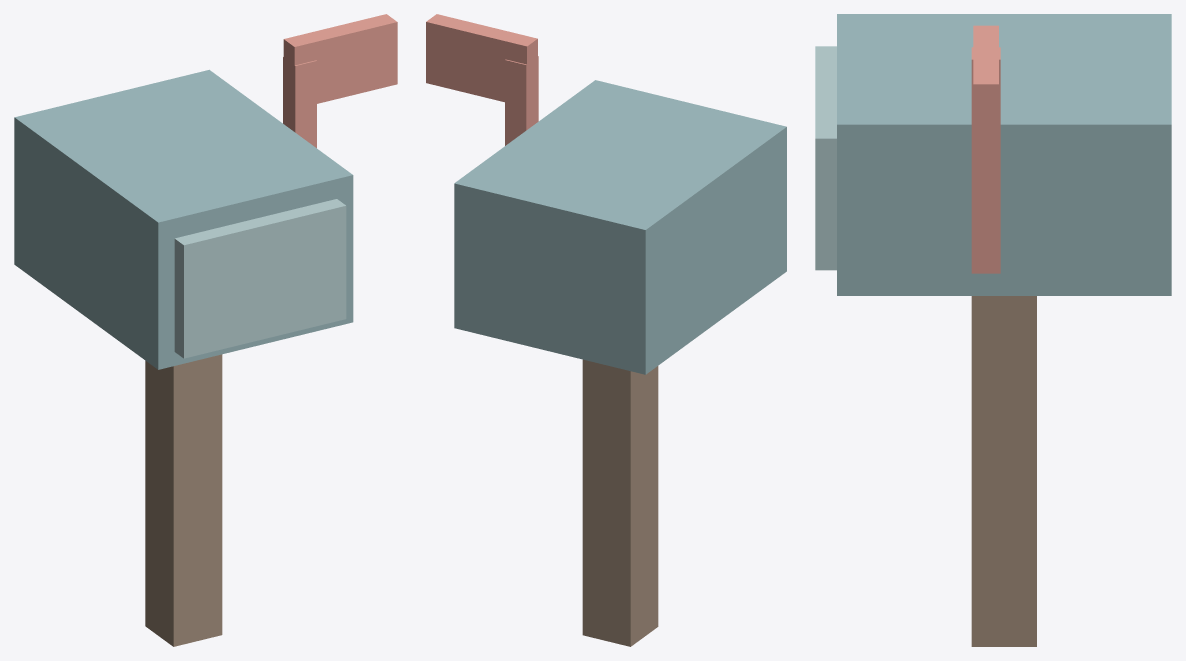
The model's file is mailbox.glb.
3 views of the same model, side by side, from view 1: azimuth 30°, elevation 25°; view 2: azimuth 150°, elevation 25°; view 3: azimuth 270°, elevation 25° (orthographic). The views are drawn at different scales.
Parts seen in each view (by area): view 1: box, post, door, flag, flag-post; view 2: box, post, flag, flag-post; view 3: box, post, door, flag-post, flag.
Boxes of the visible parts, x1,y1,x2,y2 form: box: [14, 69, 353, 369]; post: [145, 354, 222, 646]; door: [174, 199, 346, 358]; flag: [283, 14, 397, 103]; flag-post: [283, 57, 316, 147]; box: [454, 80, 786, 374]; post: [582, 359, 658, 646]; flag: [426, 14, 537, 107]; flag-post: [505, 56, 538, 145]; box: [837, 14, 1171, 295]; post: [971, 296, 1036, 646]; door: [815, 46, 836, 270]; flag-post: [971, 47, 1000, 273]; flag: [973, 25, 998, 156].
Bounding box in the file's own units: 1.1 × 2.01 × 0.98.
